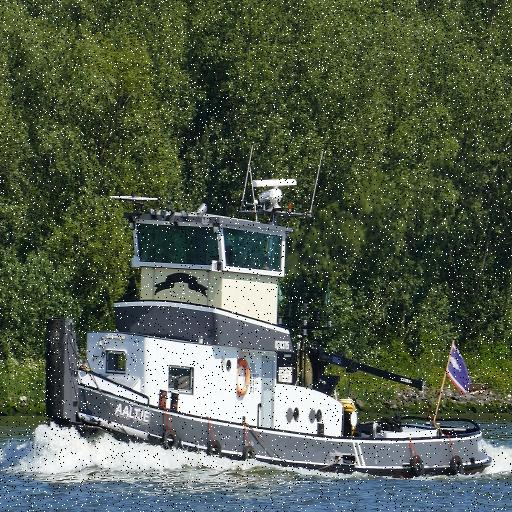tugboat: (40, 142, 496, 488)
